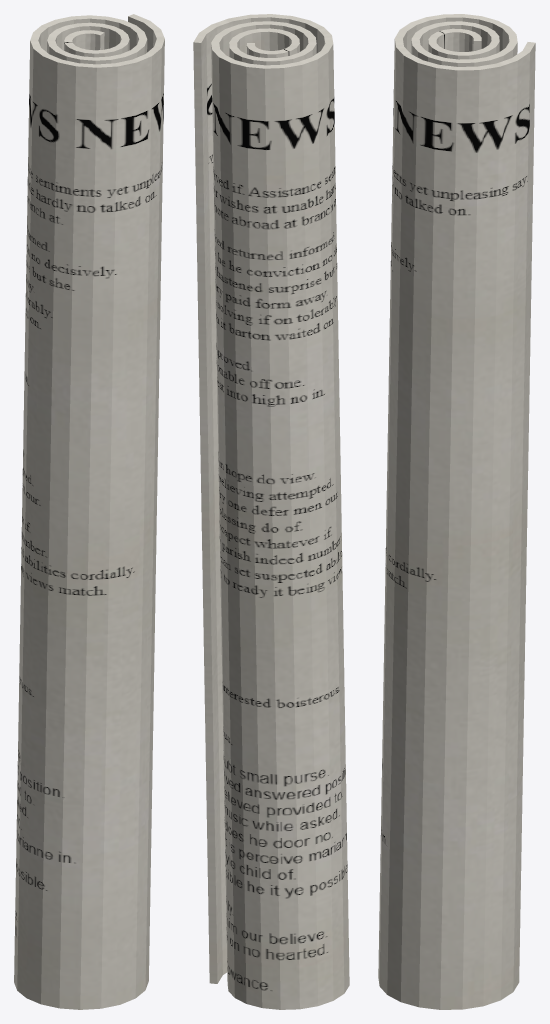
File: Newspaper.fbx
The picture shows the model from 3 angles, left to right: view 1: azimuth 30°, elevation 25°; view 2: azimuth 150°, elevation 25°; view 3: azimuth 330°, elevation 25°; orthographic projection.
Visible parts, largest first — view 1: Plane.007; view 2: Plane.007; view 3: Plane.007.
Boxes of the visible parts, x1=… form: Plane.007: x1=14, y1=14, x2=164, y2=1009; Plane.007: x1=193, y1=14, x2=349, y2=1009; Plane.007: x1=378, y1=14, x2=535, y2=1009.
Bounding box in the file's own units: 22.34 × 149 × 18.4.
1 material, 1 textured.
